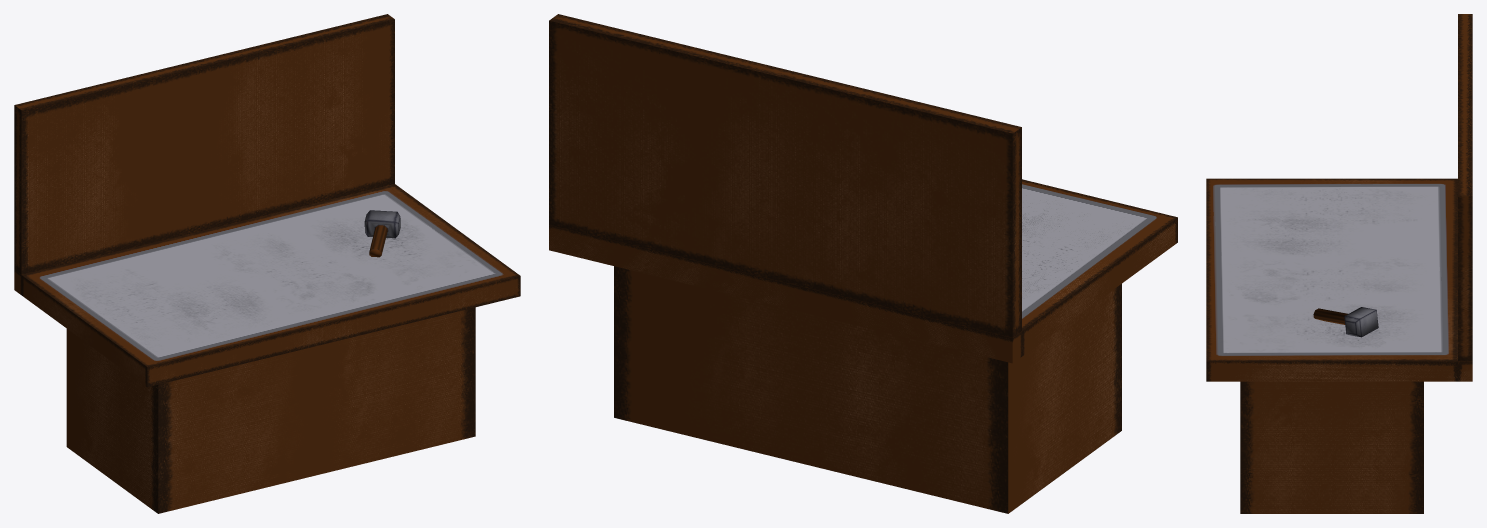
The model's file is Workbench.fbx.
The picture shows the model from 3 angles, left to right: view 1: azimuth 30°, elevation 25°; view 2: azimuth 150°, elevation 25°; view 3: azimuth 270°, elevation 25°; orthographic projection. The views are drawn at different scales.
Visible parts, largest first — view 1: Workbench, Mallet; view 2: Workbench; view 3: Workbench, Mallet.
Part boxes in pixels (<box>): Workbench: <box>14,14,520,513</box>; Mallet: <box>364,210,400,257</box>; Workbench: <box>549,14,1177,513</box>; Workbench: <box>1206,14,1472,513</box>; Mallet: <box>1313,307,1378,337</box>.
Bounding box in the file's own units: 4.7 × 2.9 × 3.98.
Materials: 2 (2 with a texture image).
